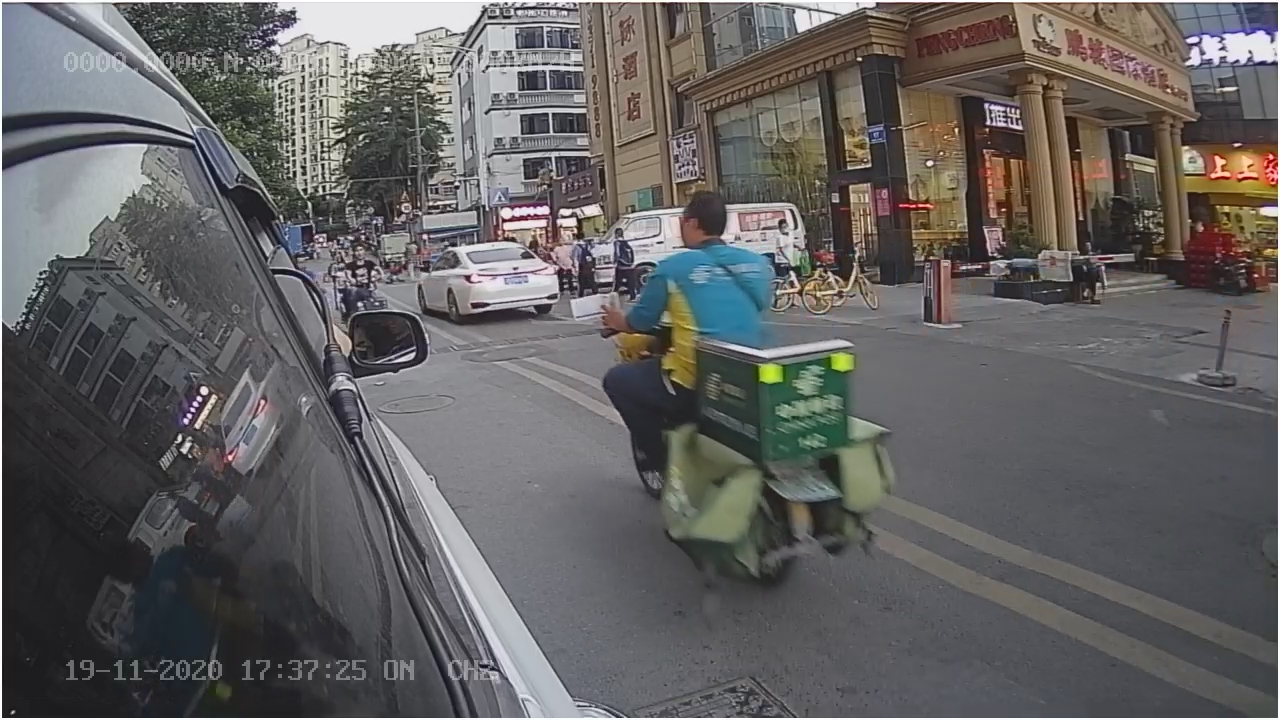person: (632, 202, 780, 320)
